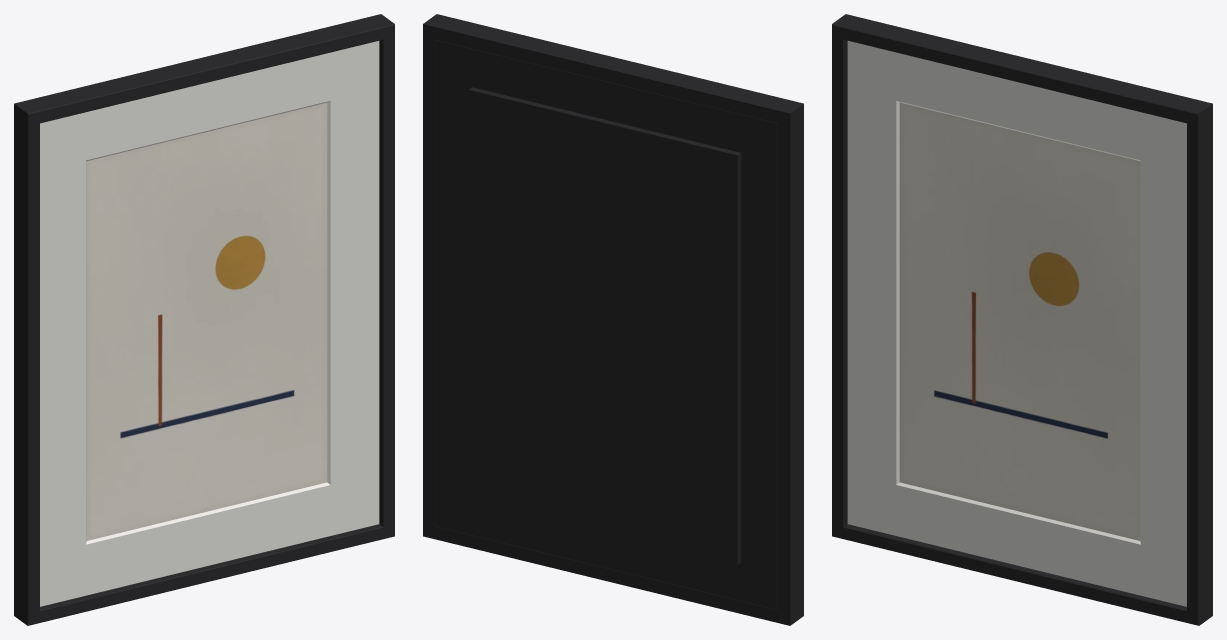
Rendered from art_geometric_b.gltf.
3 renders of one model, left to right at view 1: azimuth 30°, elevation 25°; view 2: azimuth 150°, elevation 25°; view 3: azimuth 330°, elevation 25°, orthographic.
Parts seen in each view (by area): view 1: Art_GeometricB_Art, Art_GeometricB_Mat, Art_GeometricB_Frame; view 2: Art_GeometricB_Spacer, Art_GeometricB_Backing, Art_GeometricB_Frame; view 3: Art_GeometricB_Art, Art_GeometricB_Mat, Art_GeometricB_Frame.
Part boxes in pixels (bbox=[...]): Art_GeometricB_Art: bbox=[86, 102, 327, 540]; Art_GeometricB_Mat: bbox=[40, 41, 379, 606]; Art_GeometricB_Frame: bbox=[14, 14, 394, 625]; Art_GeometricB_Spacer: bbox=[468, 87, 741, 565]; Art_GeometricB_Backing: bbox=[435, 40, 777, 609]; Art_GeometricB_Frame: bbox=[423, 14, 803, 625]; Art_GeometricB_Art: bbox=[899, 102, 1140, 540]; Art_GeometricB_Mat: bbox=[847, 41, 1186, 606]; Art_GeometricB_Frame: bbox=[832, 14, 1212, 625].
Bounding box in the file's own units: 0.6 × 0.8 × 0.05.
Materials: 4 (1 with a texture image).
